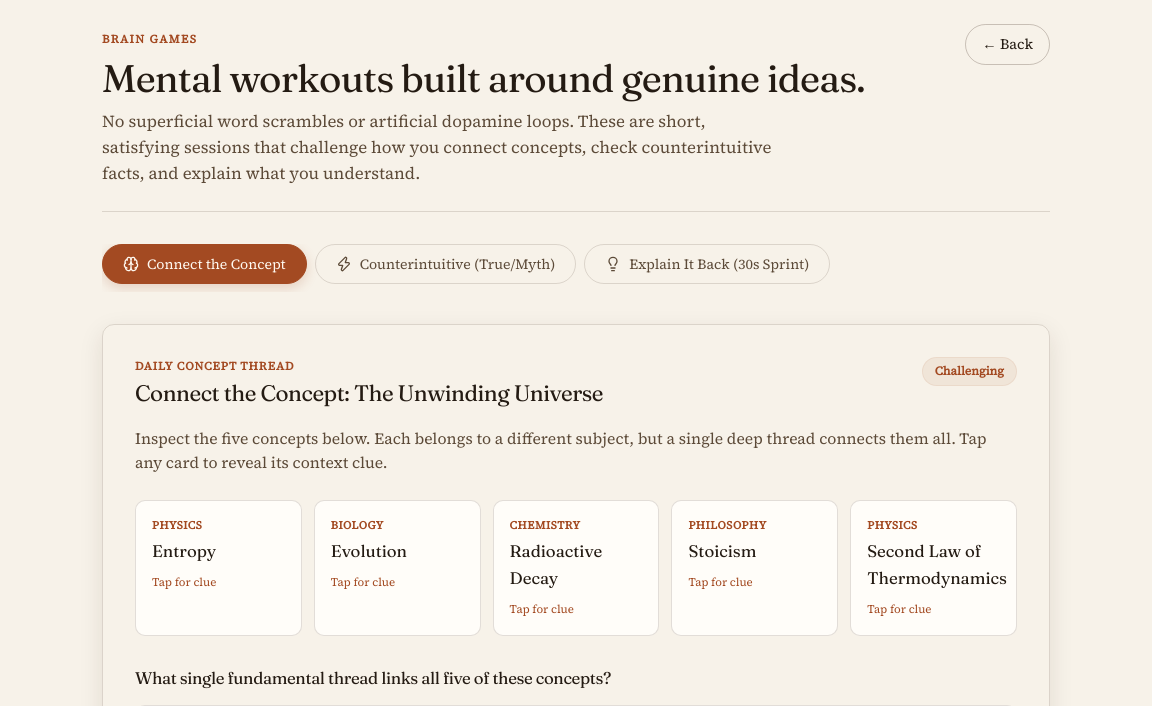
Test: Brain Games › marks the example explanations as examples, not as quotes from people
Click the tab "Explain It Back (30s Sprint)": point(707, 264) [584,244,830,284]
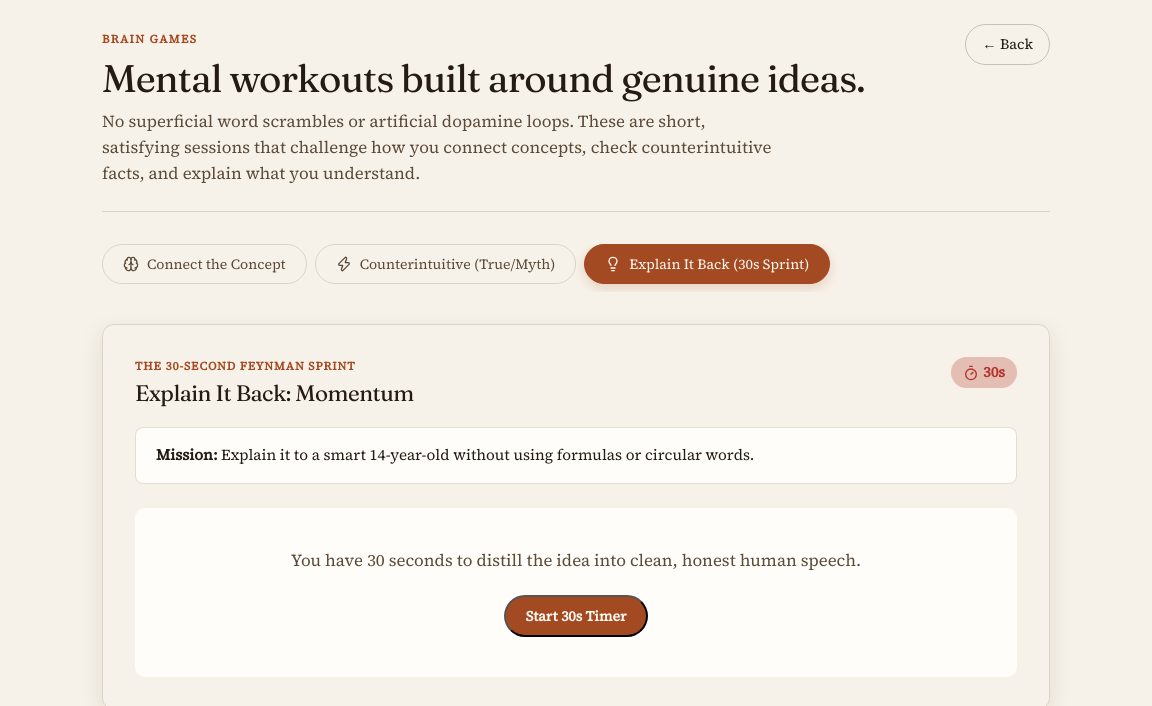
Click the button "Start 30s Timer": point(576, 616) [504,595,648,637]
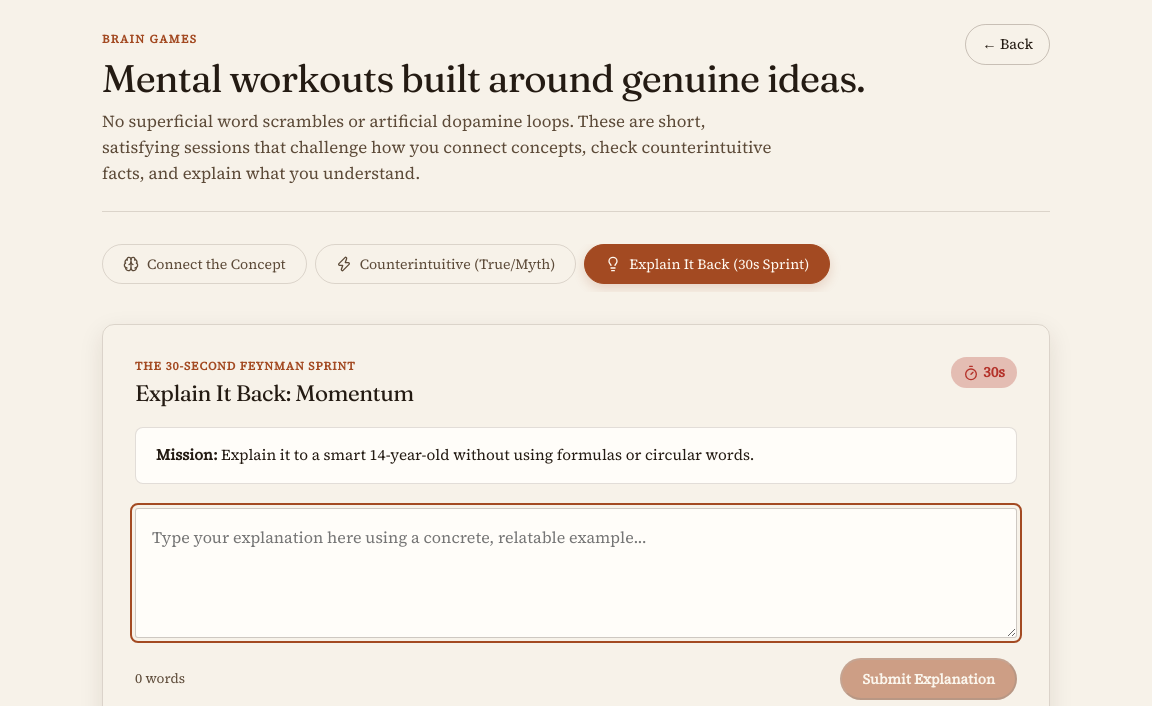
Replace the text in the text box named "your concept explanation" with "Momentum is how hard something is to stop, so a slow train still hits hard.": point(576, 573) [135,508,1017,638]
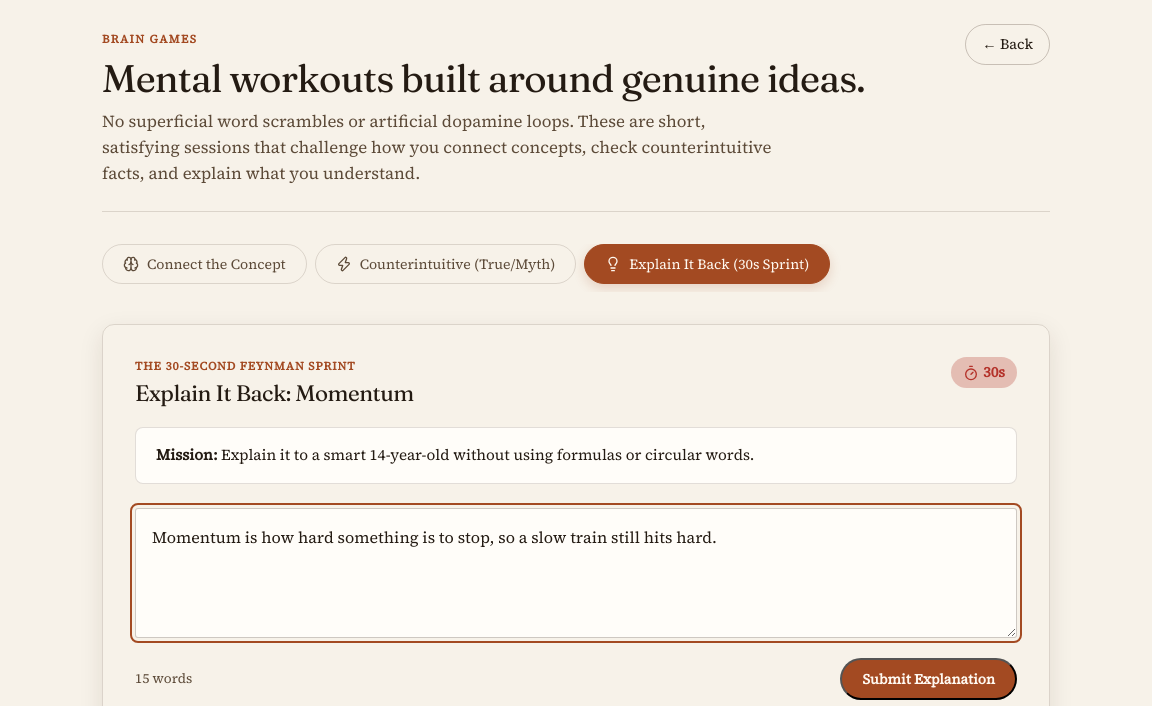
Click the button "Submit Explanation": point(929, 679) [840,658,1017,700]
(page scrolled)
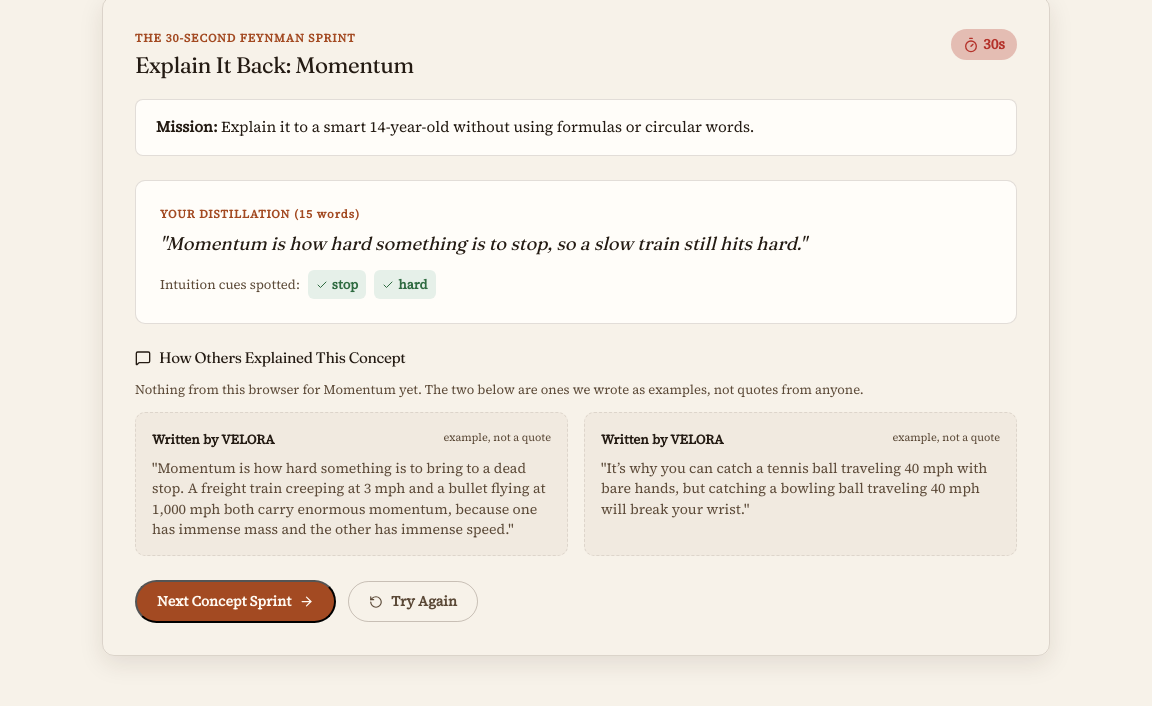
Check: the 1st text "Written by VELORA" is shown, box [152,429,275,450]
Check: the 1st text "example, not a quote" is shown, box [444,429,551,450]
